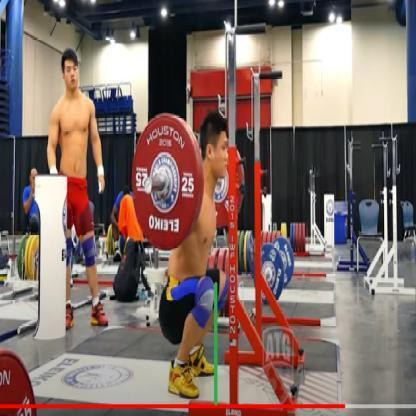barbell: (130, 110, 244, 251), (249, 236, 296, 301)
